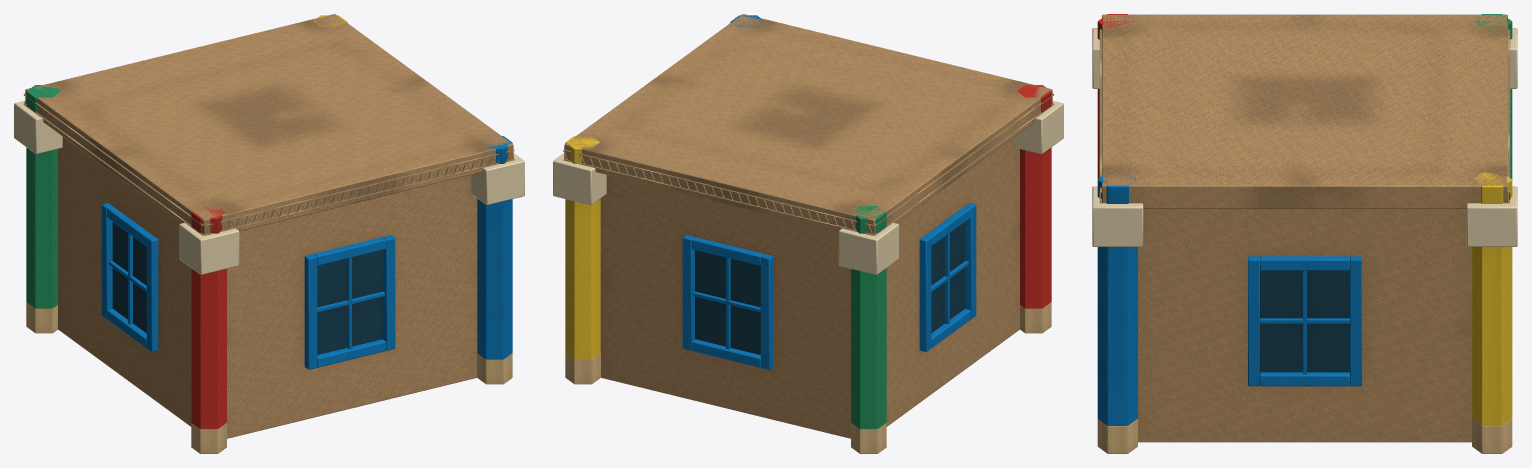
The model's file is 9-pencil-supported-box-5-1.fbx.
3 views of the same model, side by side, from view 1: azimuth 30°, elevation 25°; view 2: azimuth 150°, elevation 25°; view 3: azimuth 270°, elevation 25° (orthographic). The views are drawn at different scales.
Visible parts, largest first — view 1: pencil-supported-box-5-1; view 2: pencil-supported-box-5-1; view 3: pencil-supported-box-5-1.
Boxes of the visible parts, left/top/right/bottom form: pencil-supported-box-5-1: left=14, top=14, right=524, bottom=453; pencil-supported-box-5-1: left=553, top=14, right=1063, bottom=453; pencil-supported-box-5-1: left=1092, top=14, right=1517, bottom=453.
Size of the model in its own units: 6700 by 4650 by 6700.
1 material, 1 textured.
